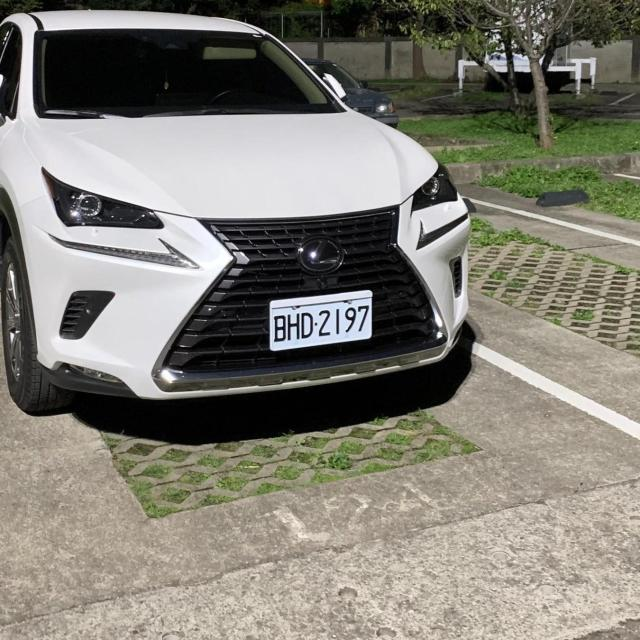W: (255, 283, 382, 356)
